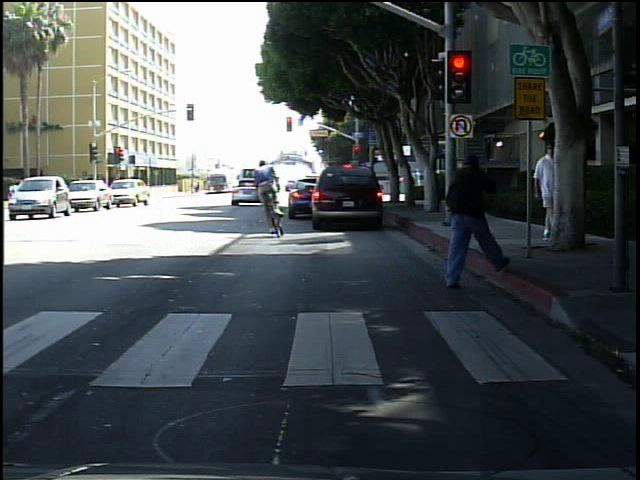person: (437, 144, 508, 293), (234, 151, 297, 226), (528, 135, 565, 242), (538, 139, 575, 244)
